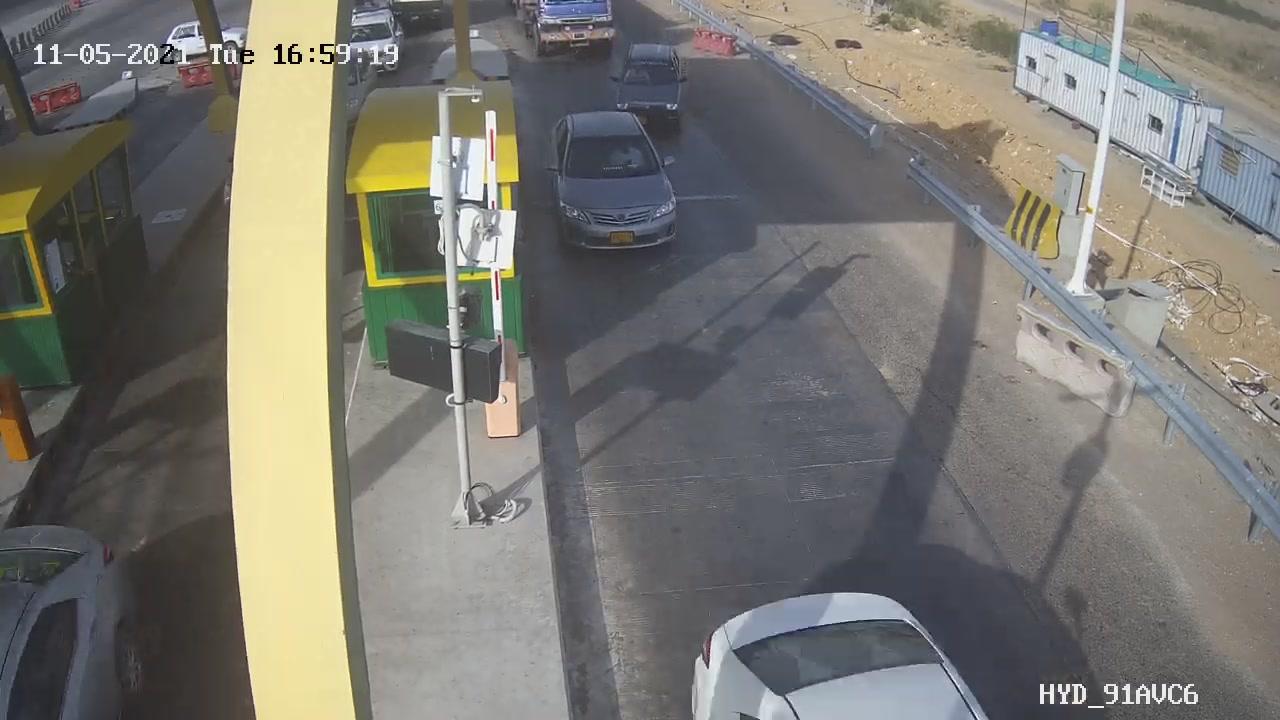F1: (531, 98, 703, 266)
